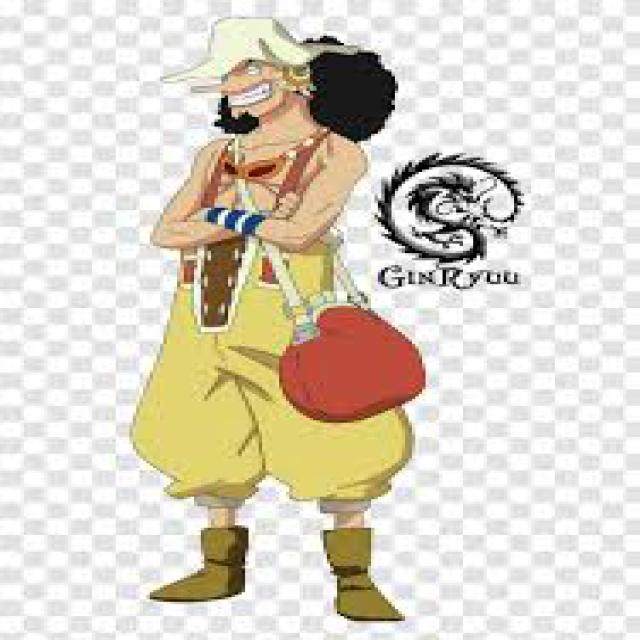Usopp: (129, 19, 429, 623)
